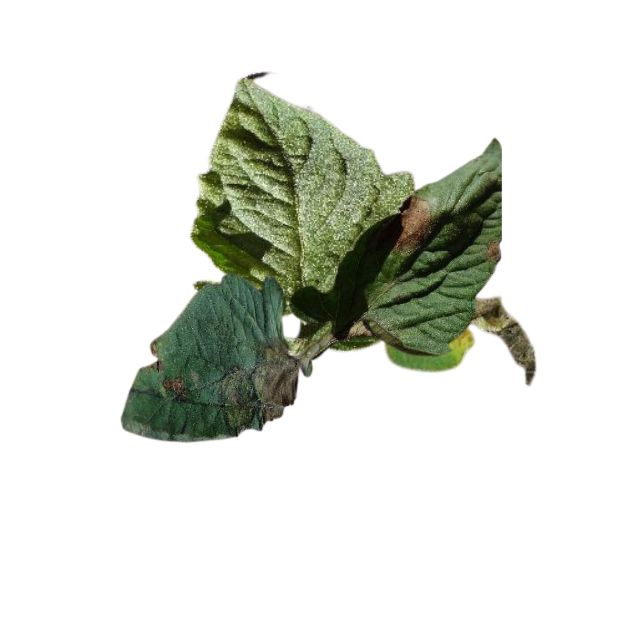Late_blight: (220, 339, 298, 434), (470, 294, 536, 387), (398, 195, 432, 253), (485, 236, 504, 268), (159, 372, 185, 393)
